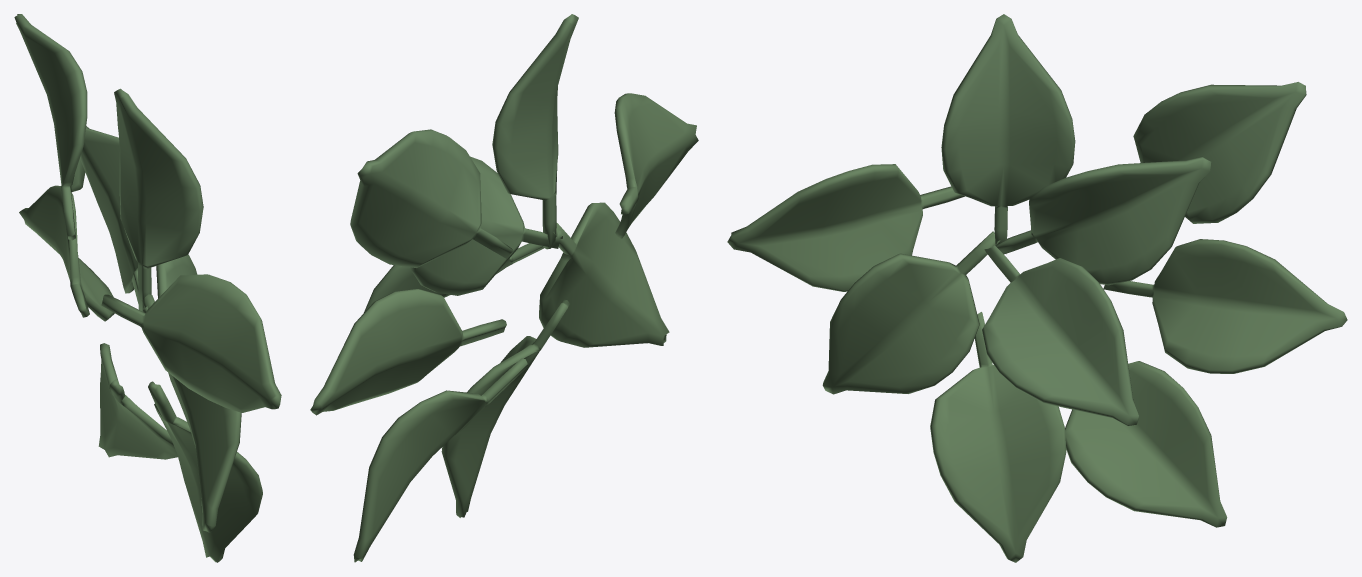
Rendered from hojas3.gltf.
The picture shows the model from 3 angles, left to right: view 1: azimuth 30°, elevation 25°; view 2: azimuth 150°, elevation 25°; view 3: azimuth 270°, elevation 25°; orthographic projection. The views are drawn at different scales.
Visible parts, largest first — view 1: plist3.006, plist2.000, plist3.005, plist3.002, plist.000, plist3.003, plist3.004, plist3.001, plist3.000; view 2: plist3.005, plist.000, plist3.004, plist2.000, plist3.003, plist3.006, plist3.001, plist3.002, plist3.000; view 3: plist3.004, plist3.002, plist3.000, plist2.000, plist.000, plist3.003, plist3.006, plist3.001, plist3.005.
Boxes of the visible parts, x1,y1,x2,y2 form: plist3.006: [101, 274, 281, 412]; plist2.000: [114, 88, 203, 311]; plist3.005: [14, 14, 87, 240]; plist3.002: [148, 381, 262, 562]; plist.000: [141, 294, 241, 532]; plist3.003: [98, 343, 177, 459]; plist3.004: [19, 185, 114, 321]; plist3.001: [80, 126, 144, 312]; plist3.000: [143, 254, 197, 313]; plist3.005: [350, 129, 513, 267]; plist.000: [539, 202, 669, 347]; plist3.004: [310, 289, 506, 415]; plist2.000: [492, 14, 578, 249]; plist3.003: [353, 358, 527, 562]; plist3.006: [614, 93, 698, 238]; plist3.001: [410, 156, 560, 295]; plist3.002: [441, 299, 569, 517]; plist3.000: [364, 230, 562, 312]; plist3.004: [1103, 239, 1347, 373]; plist3.002: [930, 312, 1066, 562]; plist3.000: [982, 245, 1139, 425]; plist2.000: [941, 14, 1075, 246]; plist.000: [822, 231, 1000, 394]; plist3.003: [1065, 361, 1227, 527]; plist3.006: [727, 164, 964, 291]; plist3.001: [996, 156, 1211, 285]; plist3.005: [1133, 82, 1306, 223].
Bounding box in the file's own units: 0.4972 × 1.21 × 1.36.
